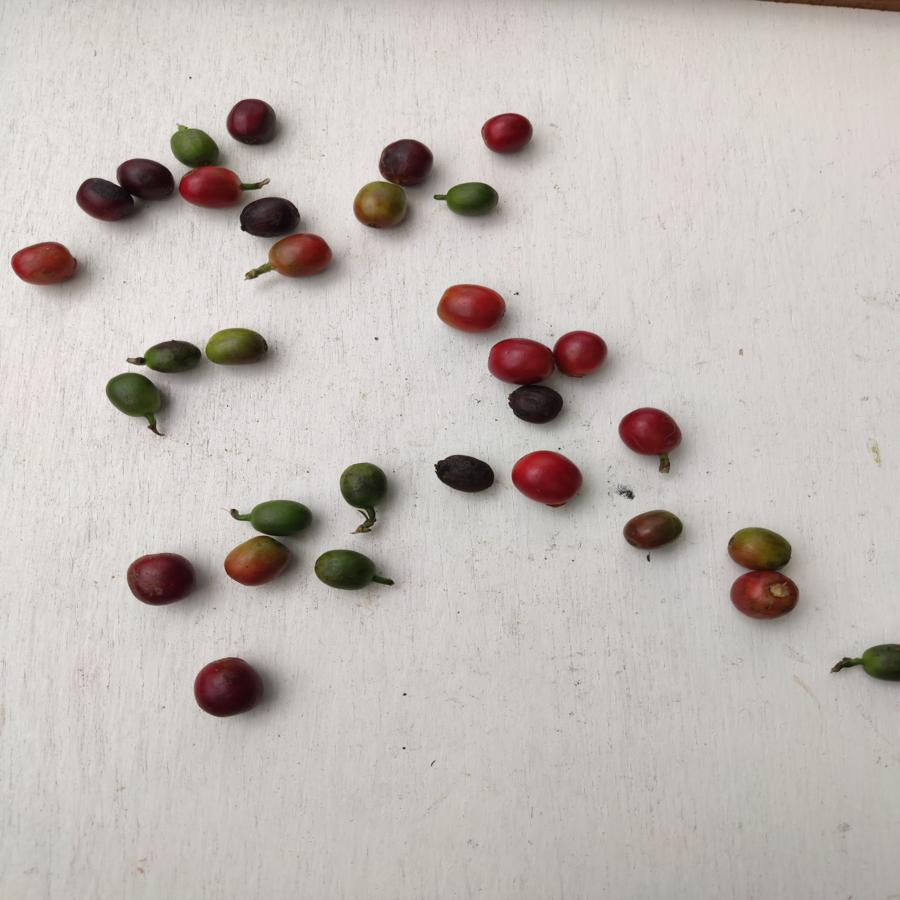Inmaduro: (312, 550, 379, 590), (244, 499, 314, 537), (139, 338, 204, 378), (106, 372, 165, 416), (337, 463, 388, 511), (167, 122, 220, 165), (443, 180, 500, 219)
Maduro: (512, 448, 585, 508), (433, 281, 508, 334), (616, 406, 685, 459), (727, 571, 799, 621), (8, 241, 83, 287), (486, 339, 555, 382), (175, 167, 247, 208), (553, 329, 611, 379), (479, 108, 537, 155)
Pinton: (221, 535, 293, 588), (265, 232, 331, 281), (724, 526, 794, 572), (620, 508, 684, 552), (352, 183, 409, 231), (203, 328, 269, 366)
Sobremaduro: (190, 655, 268, 718), (124, 552, 198, 610), (72, 174, 137, 221), (433, 450, 499, 496), (377, 137, 433, 186), (239, 196, 302, 238), (226, 95, 276, 146), (507, 385, 564, 428)
